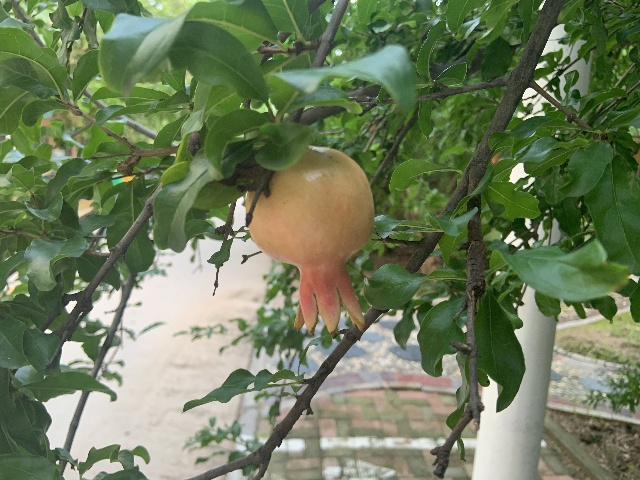mid-growth: (246, 145, 374, 338)
